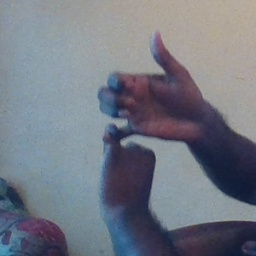S: (87, 29, 208, 196)
